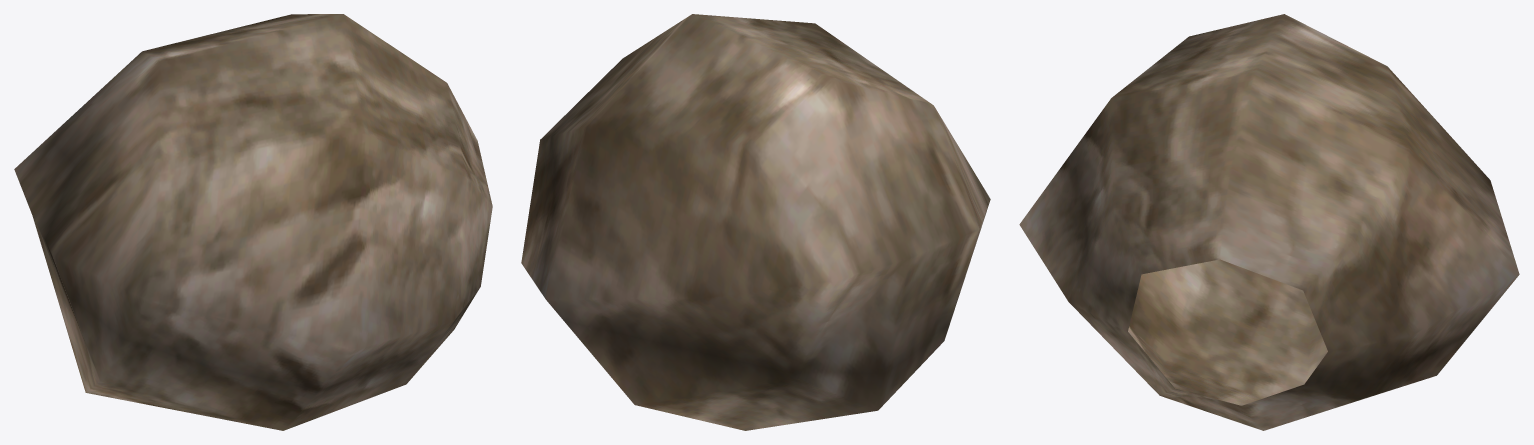
File: OVERHILL_A_01_ROCK73.fbx
3 views of the same model, side by side, from view 1: azimuth 30°, elevation 25°; view 2: azimuth 150°, elevation 25°; view 3: azimuth 270°, elevation 25° (orthographic). The views are drawn at different scales.
Parts seen in each view (by area): view 1: OVERHILL_A_01_ROCK73; view 2: OVERHILL_A_01_ROCK73; view 3: OVERHILL_A_01_ROCK73.
Boxes of the visible parts, left/top/right/bottom form: OVERHILL_A_01_ROCK73: left=14, top=14, right=492, bottom=430; OVERHILL_A_01_ROCK73: left=521, top=14, right=990, bottom=430; OVERHILL_A_01_ROCK73: left=1019, top=14, right=1519, bottom=430.
Size of the model in its own units: 7053 by 6349 by 7554.
Materials: 1 (1 with a texture image).
